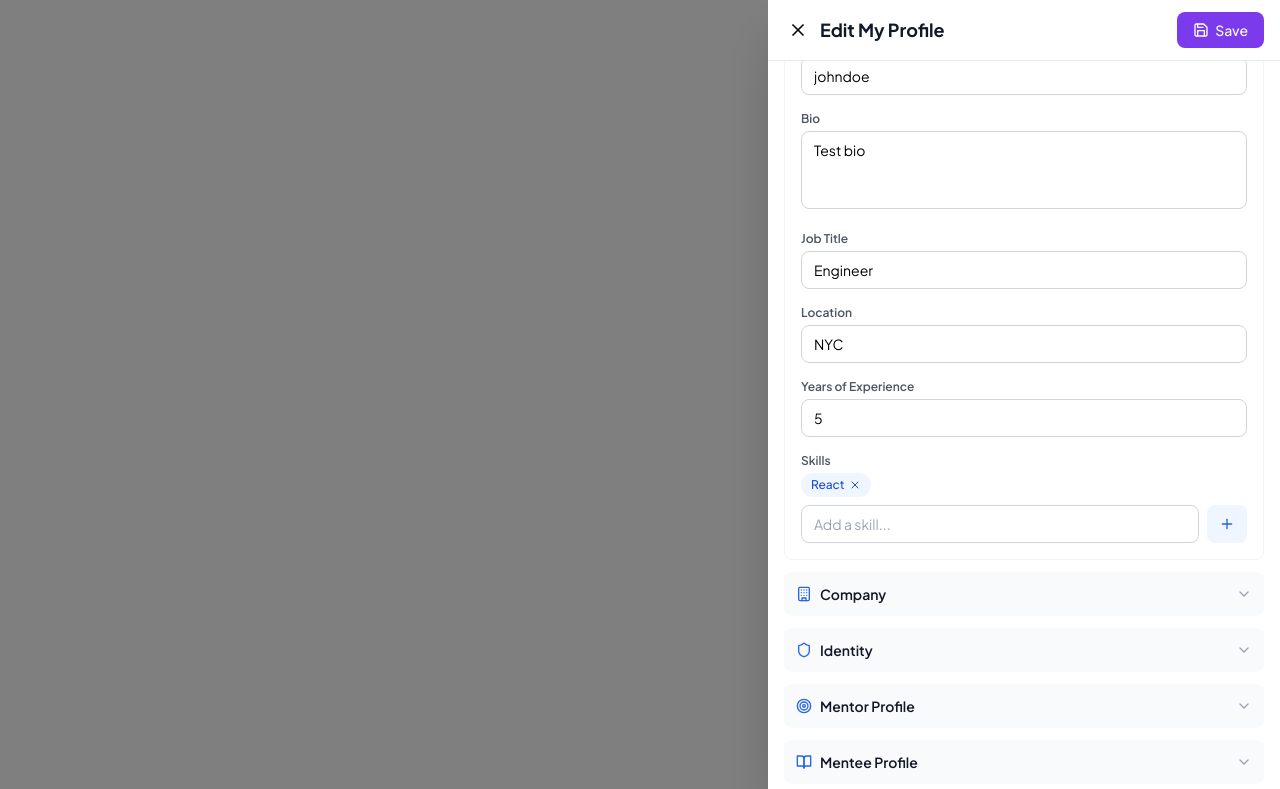
Scenario: EditProfilePanel › cancels company change from confirmation modal
(page scrolled)
Expected: the heading "Edit My Profile" is shown, x1=820 y1=16 x2=944 y2=44
Click the button "Company": coordinates (853, 594) x1=784 y1=572 x2=1264 y2=616
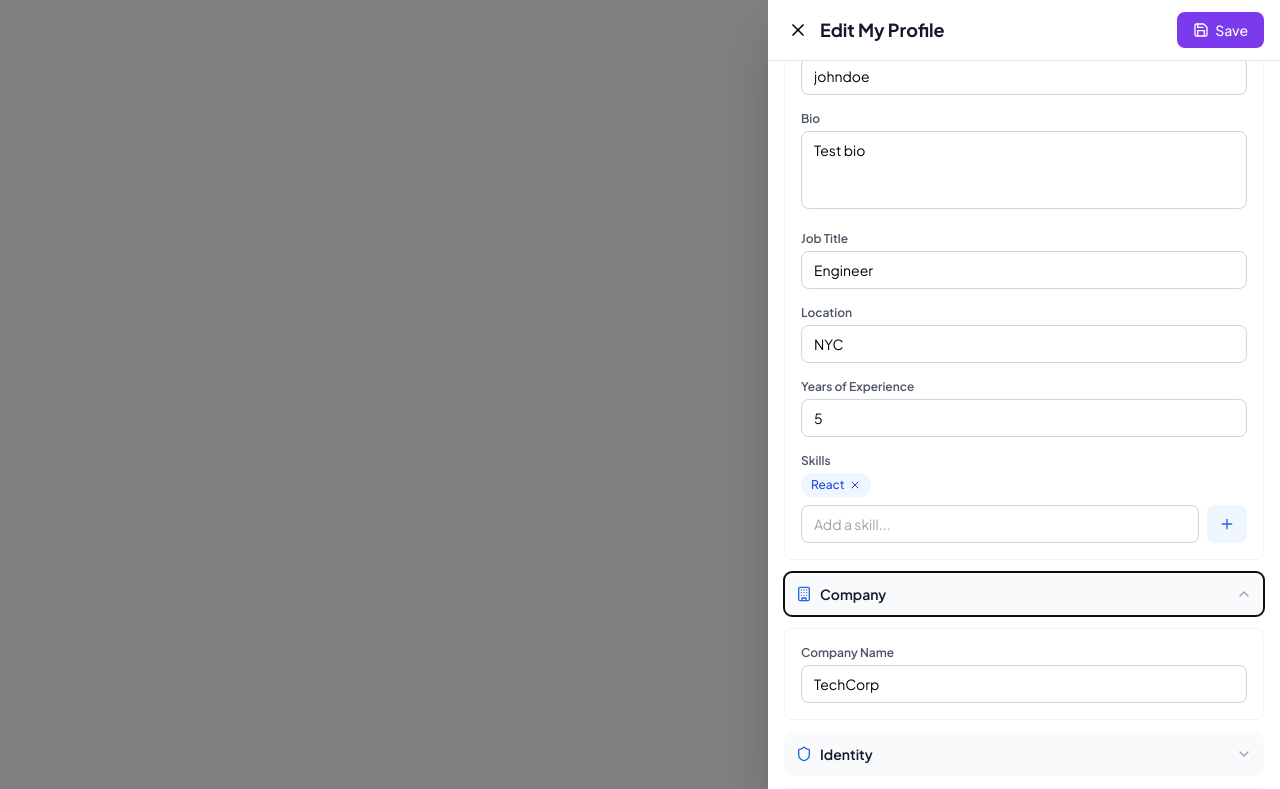
Expected: the field showing "TechCorp" below "Company Name" is shown
Replace the text in the field showing "TechCorp" below "Company Name" with "NewCorp": coordinates (1024, 684) x1=801 y1=665 x2=1247 y2=703
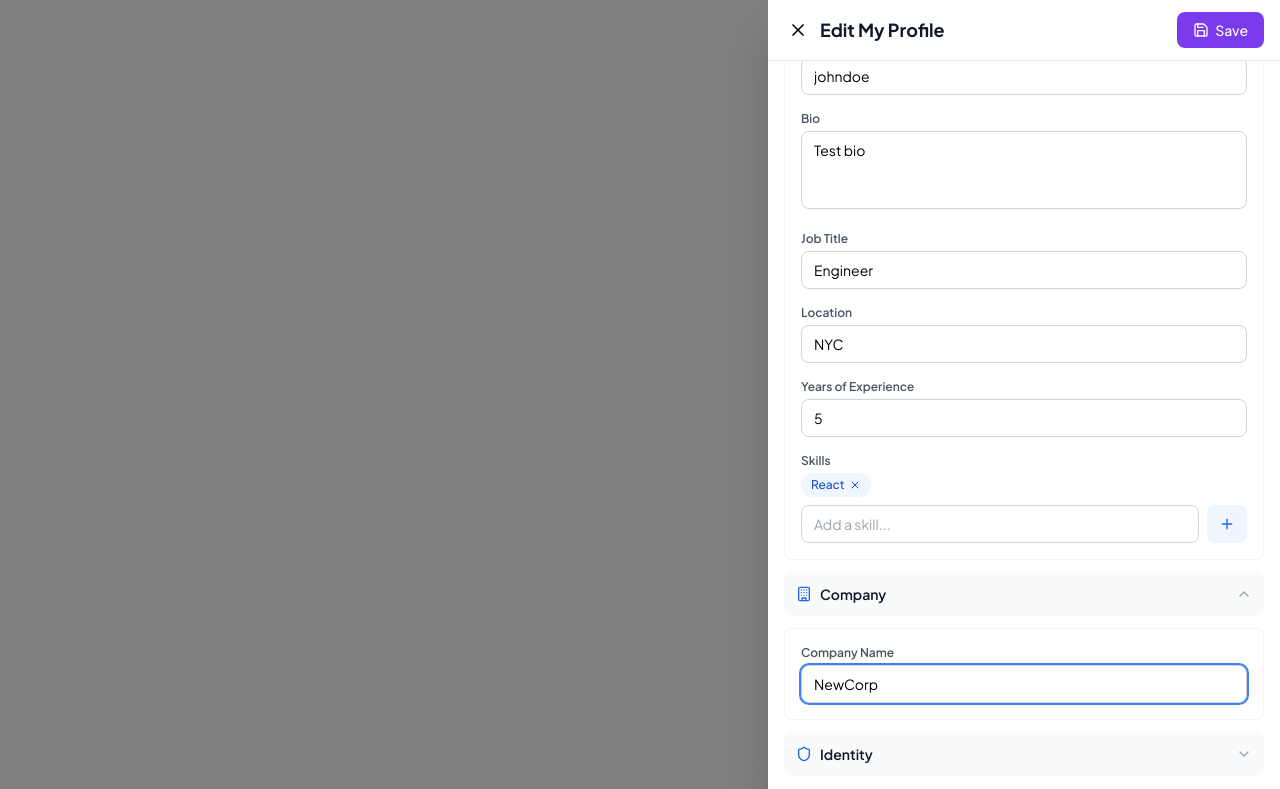
Click the button "Save": coordinates (1221, 30) x1=1177 y1=12 x2=1264 y2=48
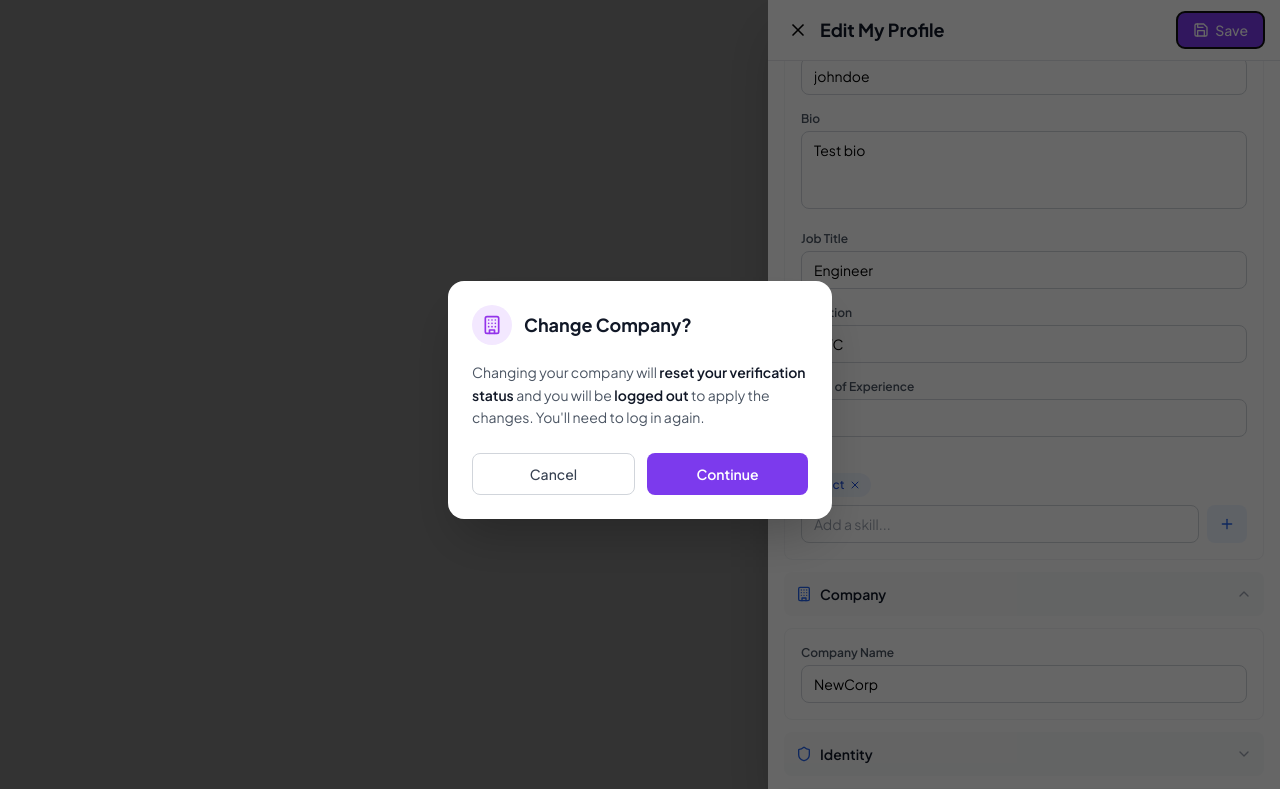
Expected: the heading "Change Company?" is shown, x1=524 y1=311 x2=692 y2=339
Click the button "Cancel": coordinates (554, 474) x1=472 y1=453 x2=635 y2=495
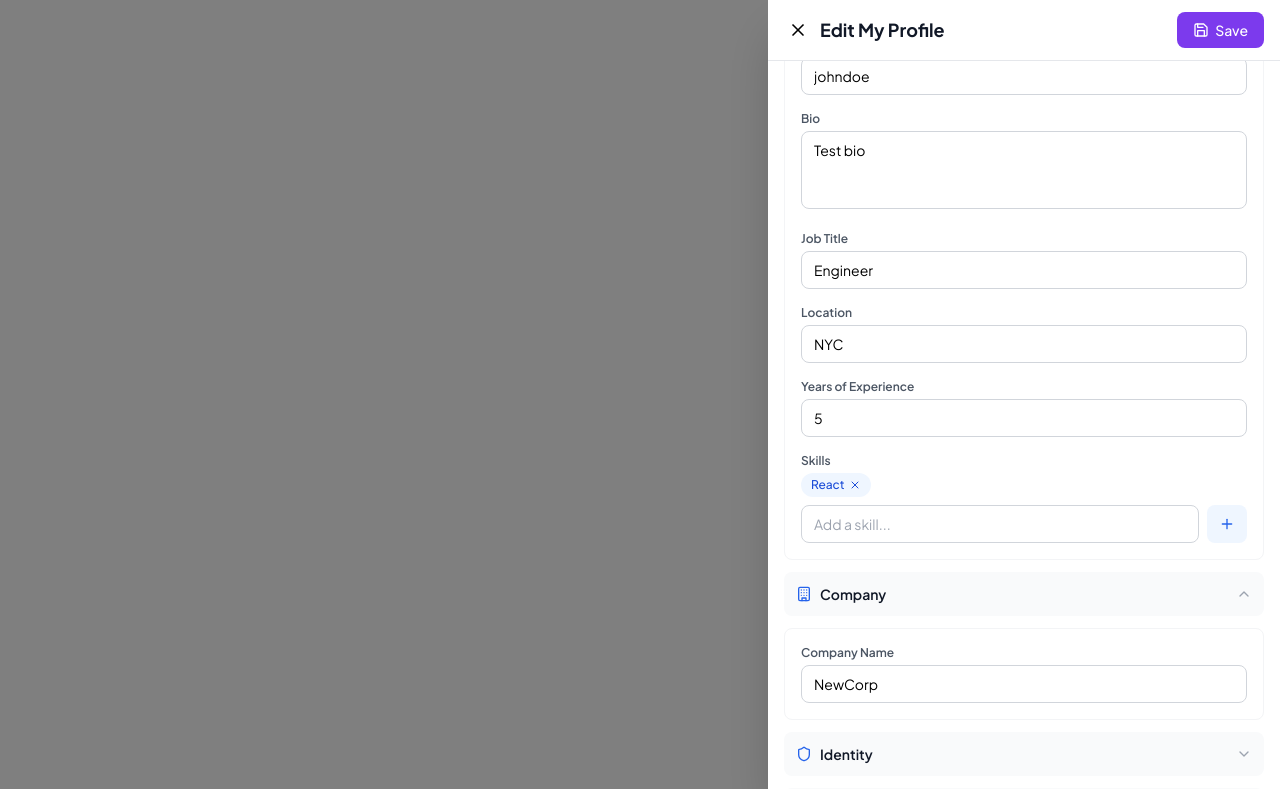
Expected: the heading "Change Company?" is gone
